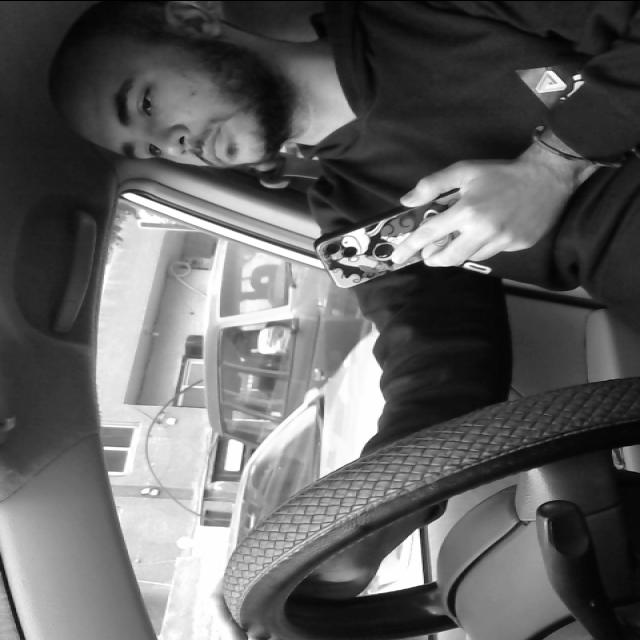mobile use: (307, 186, 483, 291)
